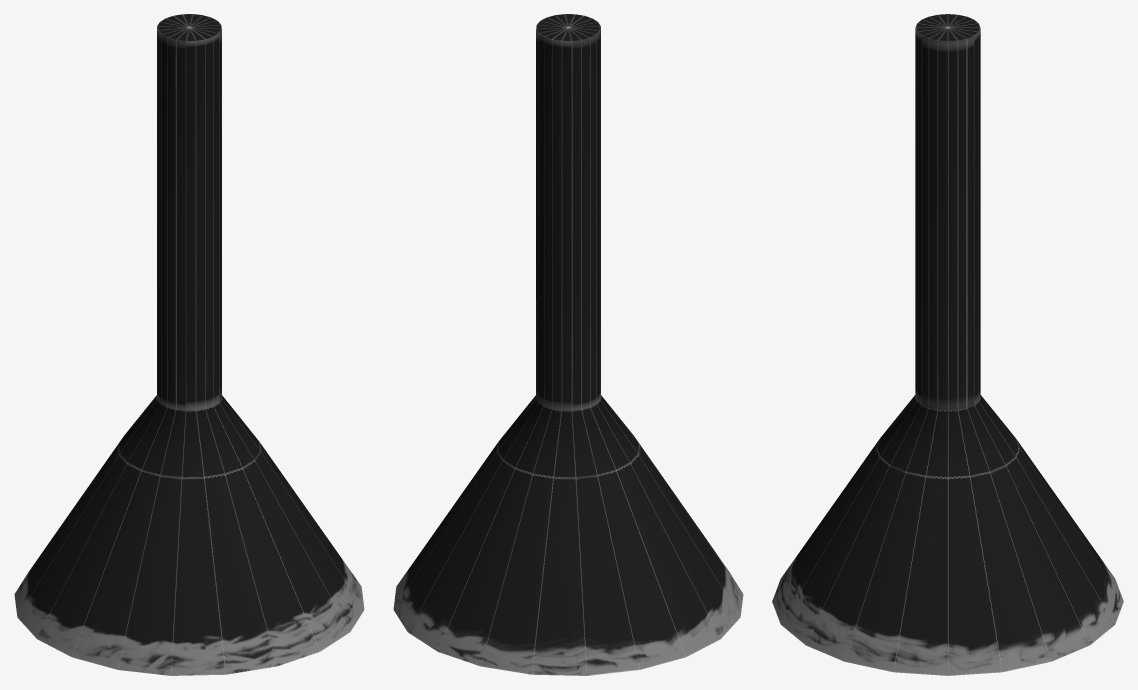
The model's file is light_bottom.obj.
3 views of the same model, side by side, from view 1: azimuth 30°, elevation 25°; view 2: azimuth 150°, elevation 25°; view 3: azimuth 270°, elevation 25° (orthographic).
Parts seen in each view (by area): view 1: light_bottom:light_bottom; view 2: light_bottom:light_bottom; view 3: light_bottom:light_bottom.
Part boxes in pixels (x1,y1,x2,y2): light_bottom:light_bottom: [14, 14, 364, 675]; light_bottom:light_bottom: [393, 14, 743, 675]; light_bottom:light_bottom: [772, 14, 1123, 675].
Bounding box in the file's own units: 0.4346 × 0.7824 × 0.4346.
1 material, 1 textured.
